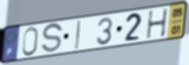0: (22, 25, 40, 57)
2: (123, 11, 144, 44)
3: (95, 16, 114, 46)
H: (146, 7, 170, 41)
I: (74, 19, 82, 51)
S: (40, 21, 64, 55)
